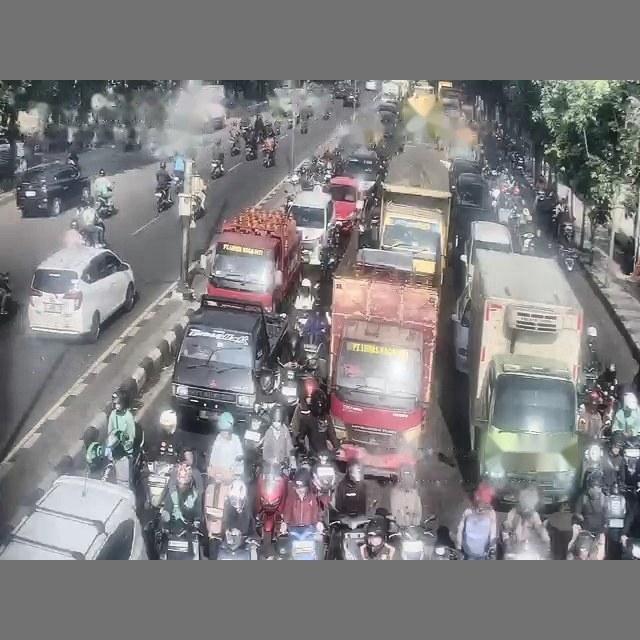Mobil: (172, 295, 287, 426), (0, 475, 147, 559), (28, 246, 136, 341), (16, 162, 90, 216), (460, 220, 513, 281), (290, 189, 332, 265), (451, 285, 470, 373), (343, 149, 380, 192), (453, 173, 490, 215), (449, 156, 481, 190), (343, 88, 359, 107), (365, 80, 377, 90)
Motor: (204, 456, 243, 557), (257, 462, 289, 543), (158, 520, 200, 559), (276, 526, 323, 559), (0, 272, 12, 317), (559, 246, 576, 272), (155, 187, 172, 212), (96, 196, 116, 217), (210, 158, 224, 179), (263, 149, 274, 167), (230, 138, 240, 156), (245, 145, 255, 160)
Truk: (467, 249, 582, 503), (329, 236, 438, 476), (201, 208, 301, 311), (379, 144, 450, 281)
